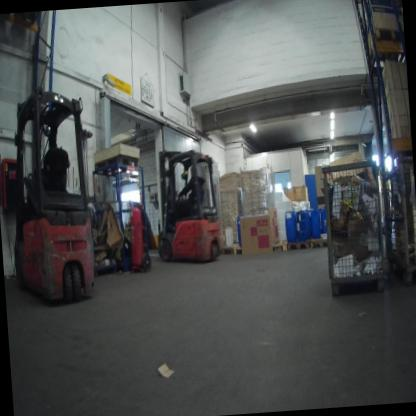forklift: (6, 84, 100, 311), (149, 134, 228, 268)
pallet: (360, 22, 403, 72), (93, 150, 139, 178), (307, 231, 329, 253), (273, 239, 295, 257), (287, 237, 308, 251), (220, 241, 236, 259), (233, 243, 246, 258)
stillage: (306, 153, 387, 298), (384, 140, 416, 292), (89, 198, 126, 273)
